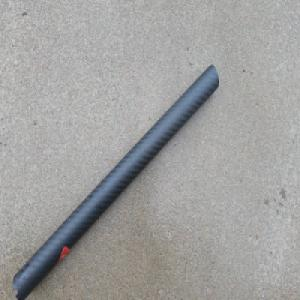LuggagePart: (10, 64, 218, 300)
